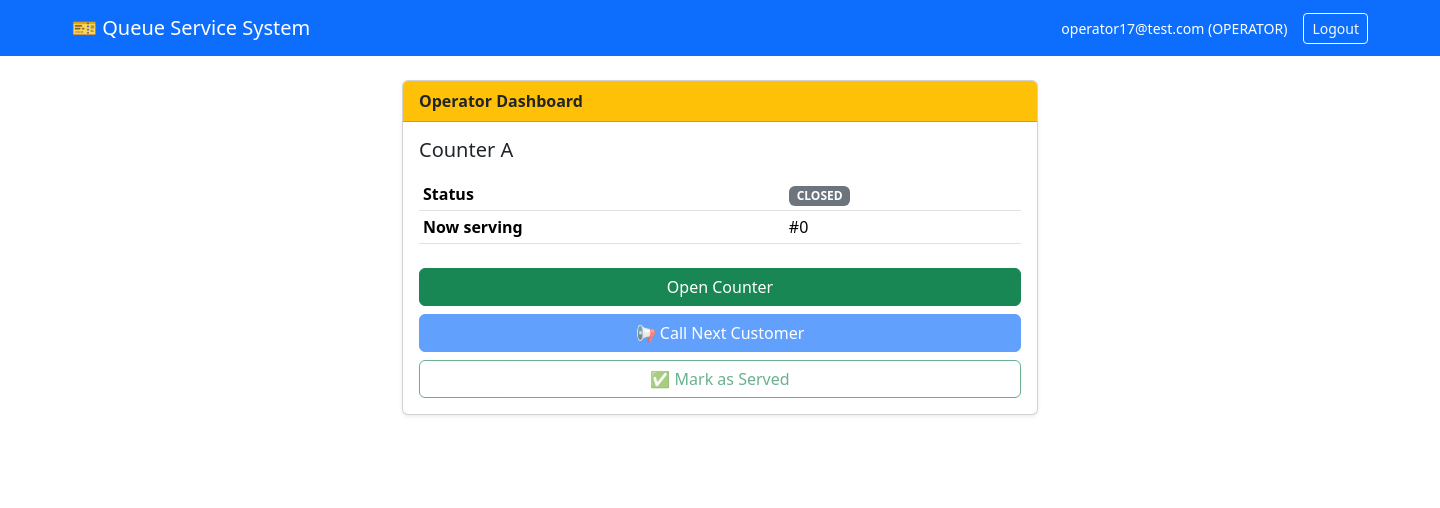
Test: Issue #1 operator assignment regression › shows Counter A and sends every action to its assigned ID
Expected: the heading "Counter A" is shown, left=419, top=136, right=513, bottom=163
Expected: the button with test id "call-next-btn" is disabled, left=419, top=314, right=1021, bottom=352
Click the button with test id "open-counter-btn" at (720, 287), box left=419, top=268, right=1021, bottom=306
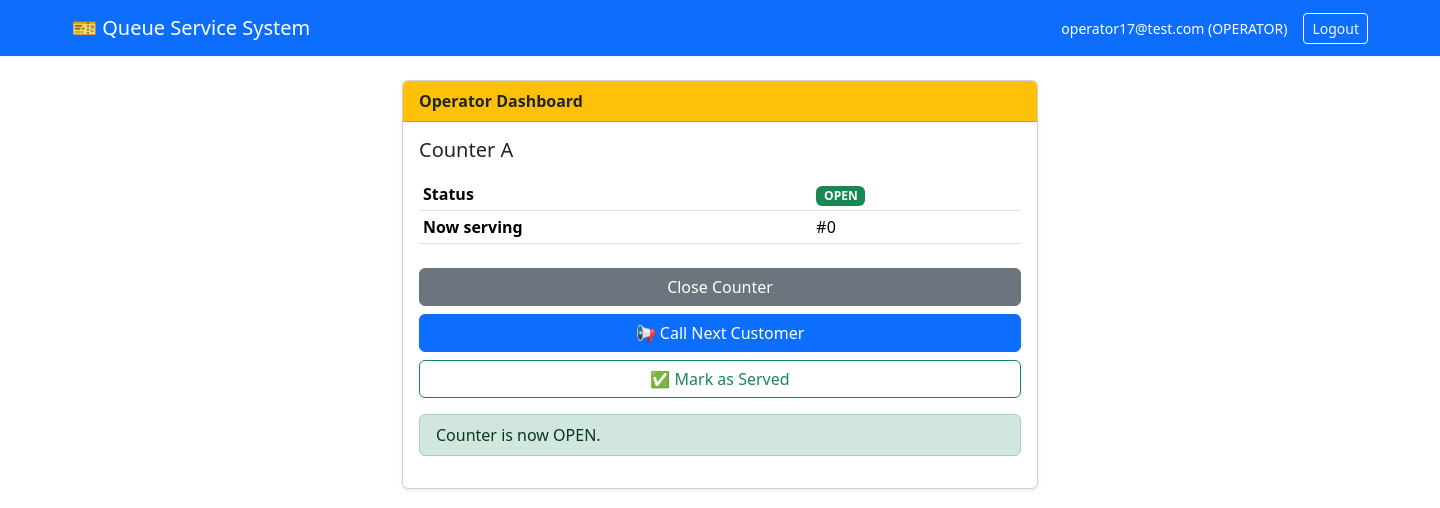
Now the button with test id "close-counter-btn" is shown, box left=419, top=268, right=1021, bottom=306
Click the button with test id "call-next-btn" at (720, 333), box left=419, top=314, right=1021, bottom=352
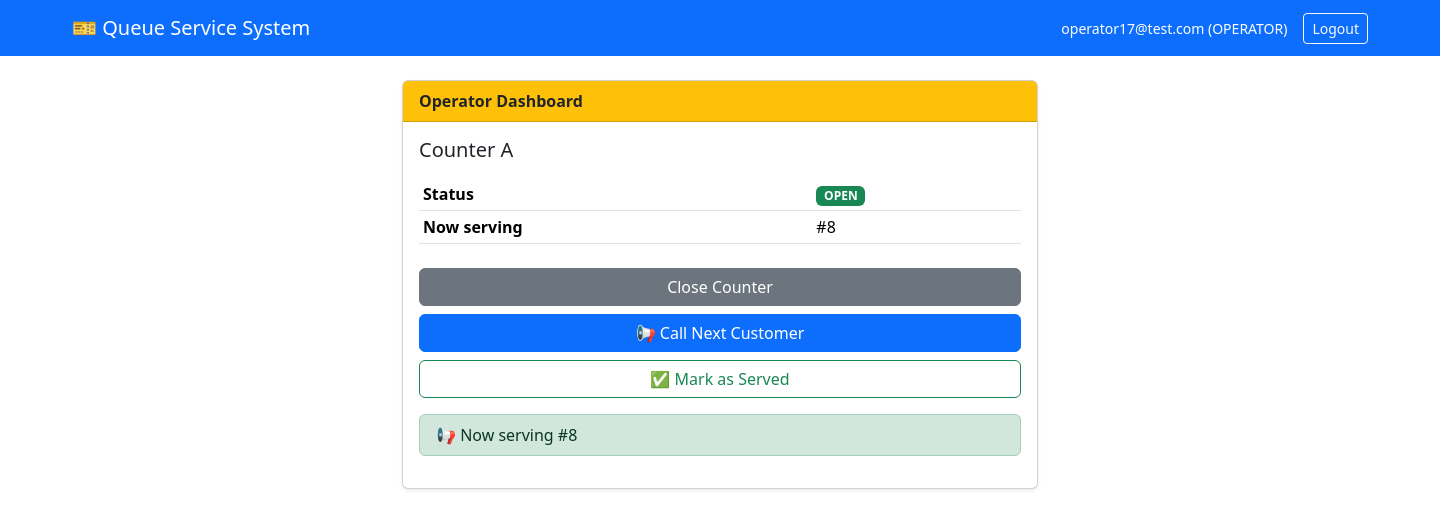
Now the text with test id "operator-success" shows "Now serving #8", box left=436, top=424, right=577, bottom=446
Click the button with test id "mark-served-btn" at (720, 379), box left=419, top=360, right=1021, bottom=398
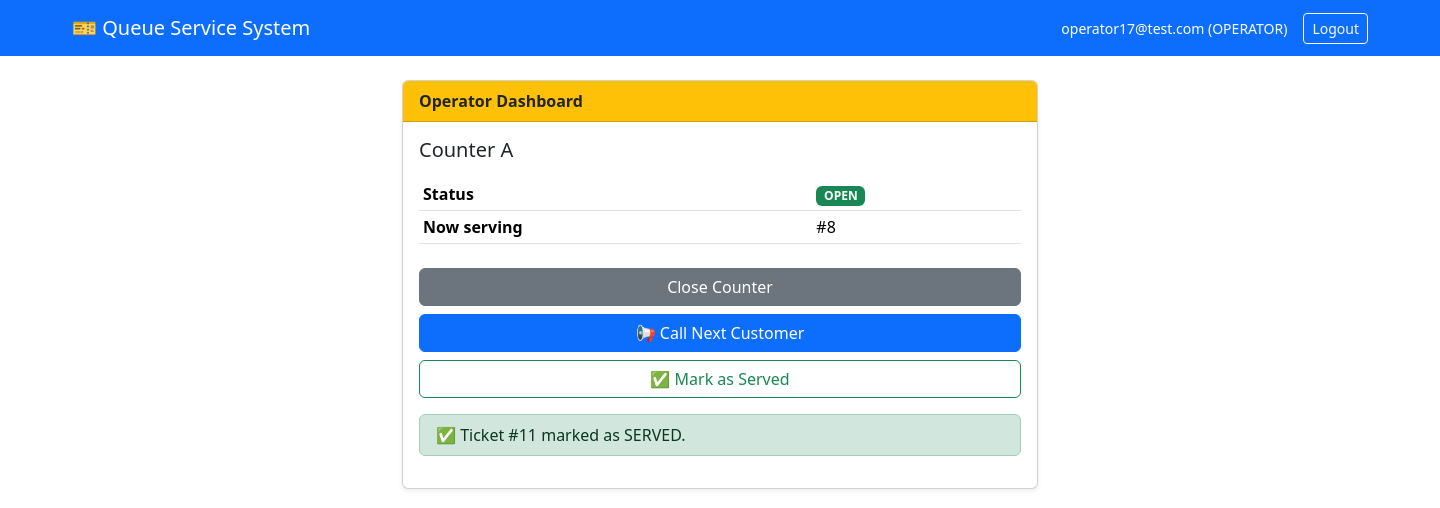
Now the text with test id "operator-success" shows "marked as SERVED", box left=436, top=424, right=686, bottom=446
Click the button with test id "close-counter-btn" at (720, 287), box left=419, top=268, right=1021, bottom=306
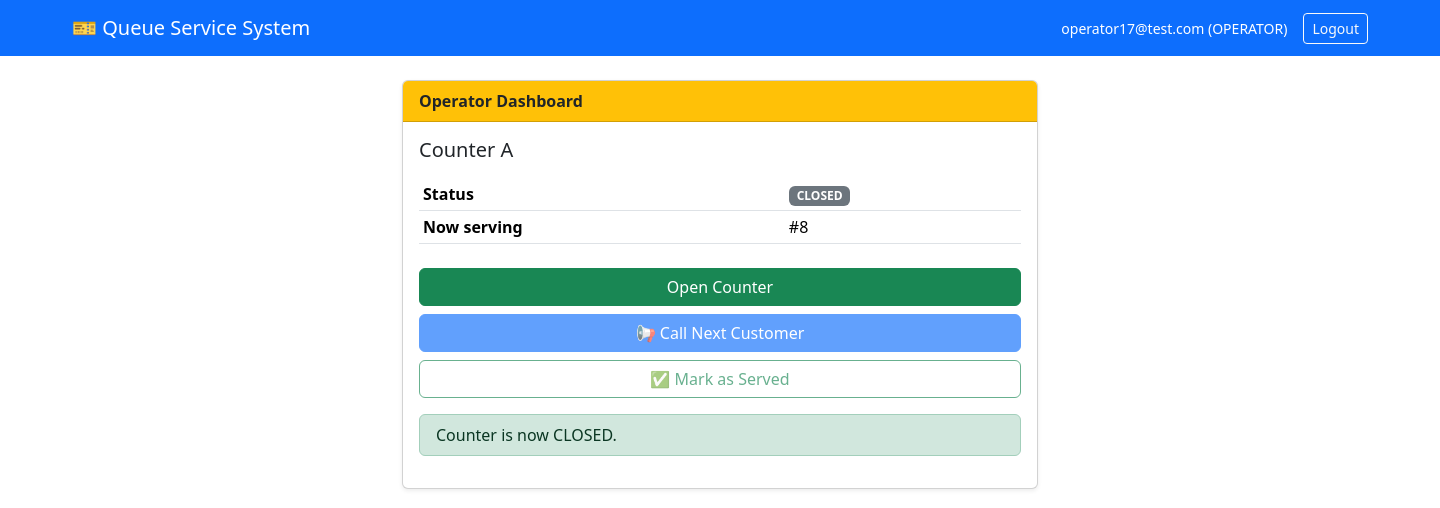
Now the button with test id "open-counter-btn" is shown, box left=419, top=268, right=1021, bottom=306
